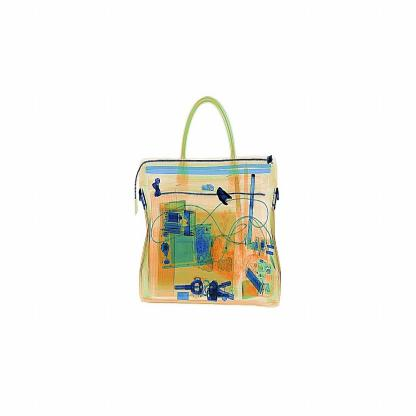wrench: (215, 182, 238, 210)
